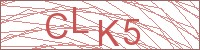5: (121, 17, 143, 45)
C: (44, 11, 69, 40)
K: (95, 17, 121, 48)
L: (70, 6, 91, 35)
